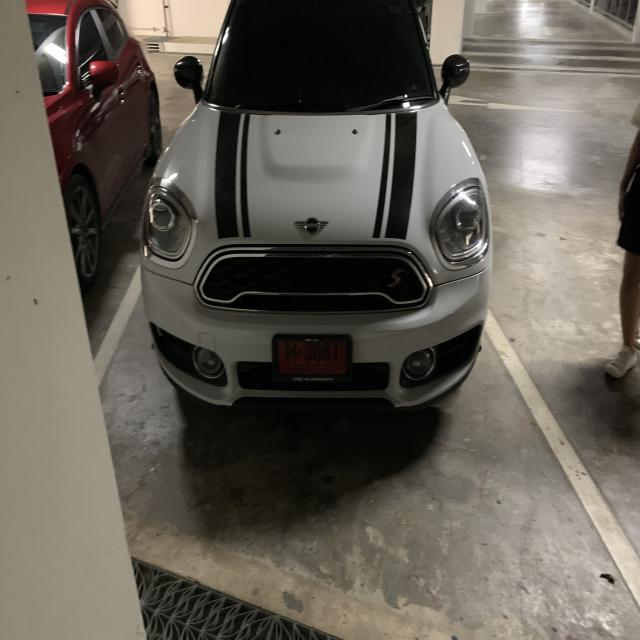license_plate: (271, 332, 354, 388)
